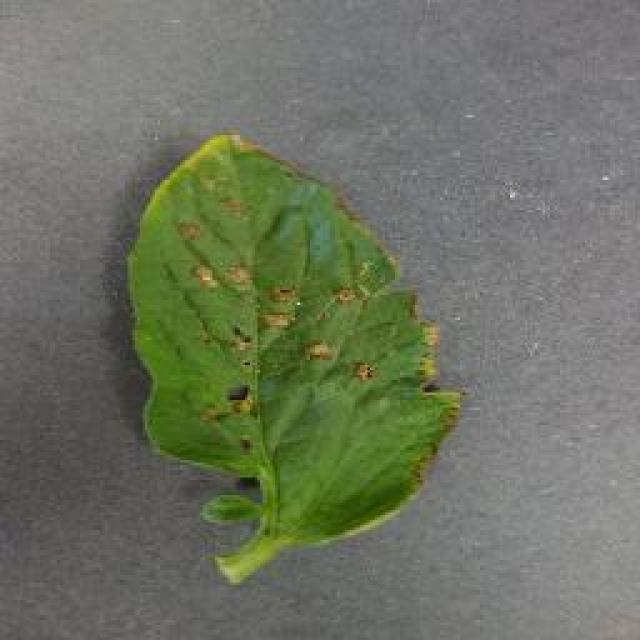Tomato___Bacterial_spot: (121, 128, 479, 594)
